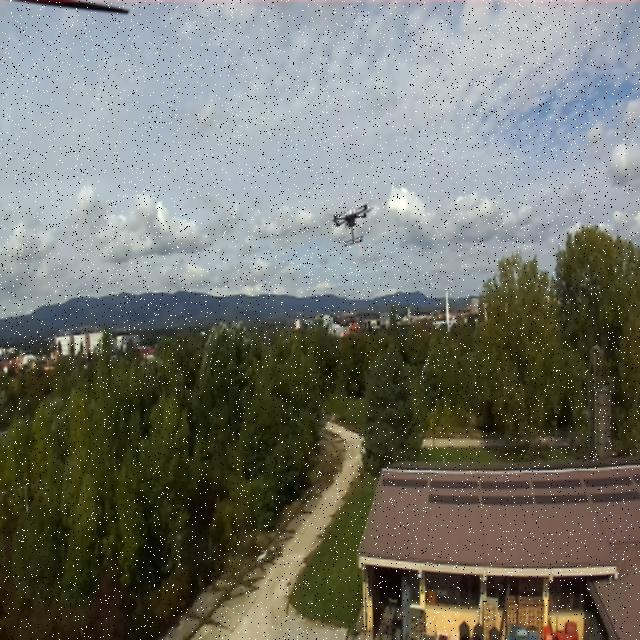UAV: (325, 197, 377, 248)
